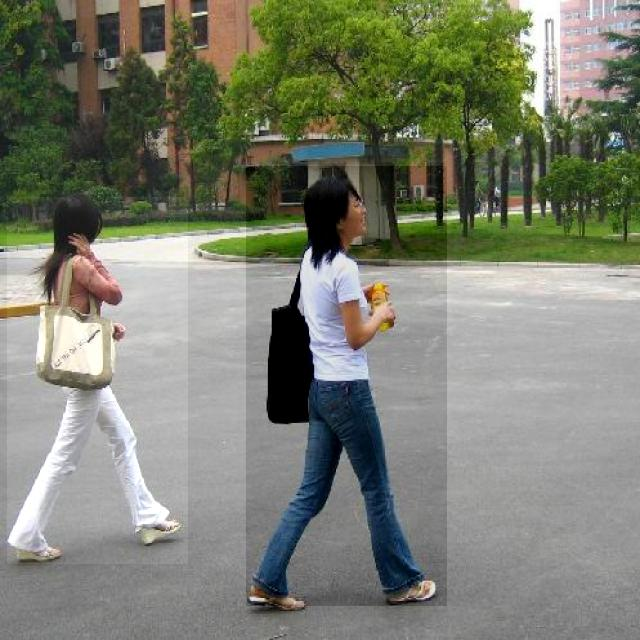with scooter: (246, 166, 447, 606), (7, 197, 188, 564)
